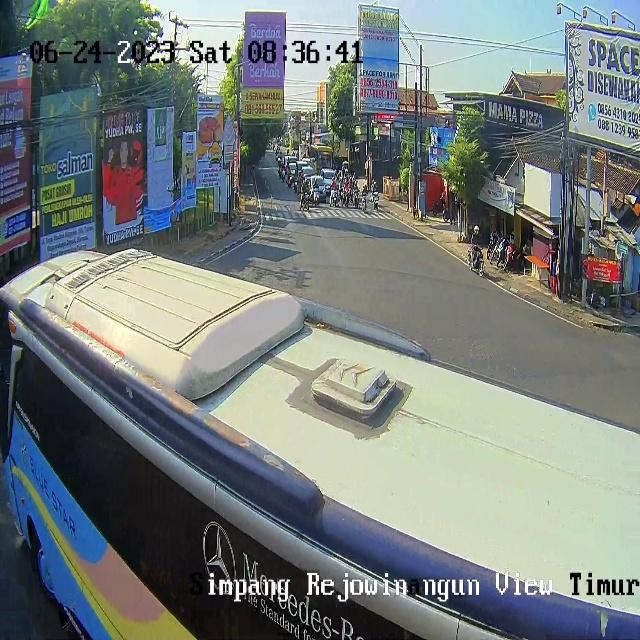bus: (468, 244, 487, 278), (372, 188, 381, 212), (330, 187, 338, 207), (302, 187, 309, 205), (354, 189, 360, 208), (313, 187, 319, 205), (344, 187, 349, 207)
car: (0, 246, 640, 640)
motorcycle: (310, 176, 326, 200), (321, 169, 336, 193), (301, 165, 315, 185), (287, 162, 296, 181)
